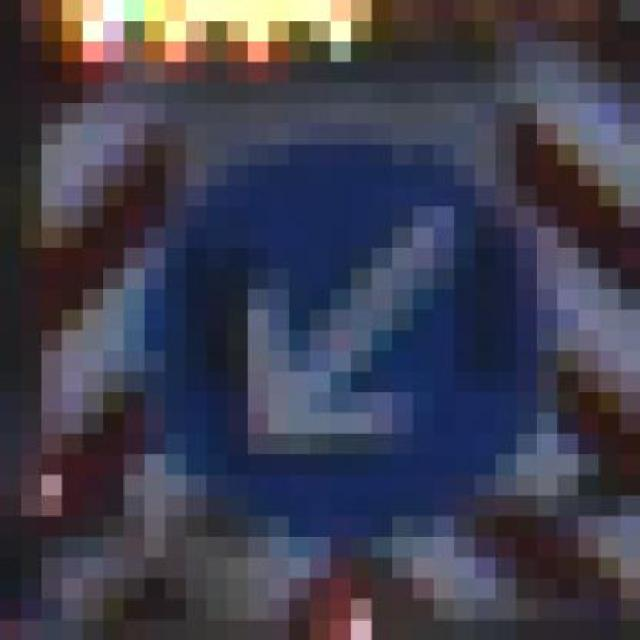Keep-Left: (103, 103, 579, 557)
